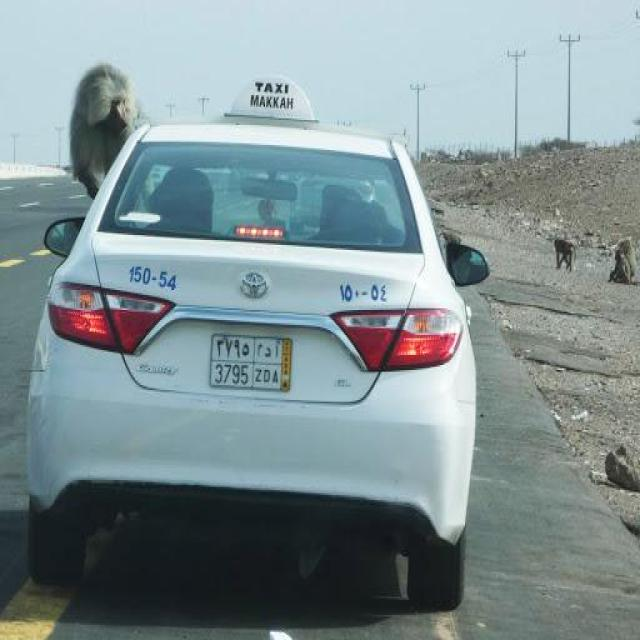license_plate: (209, 332, 290, 392)
